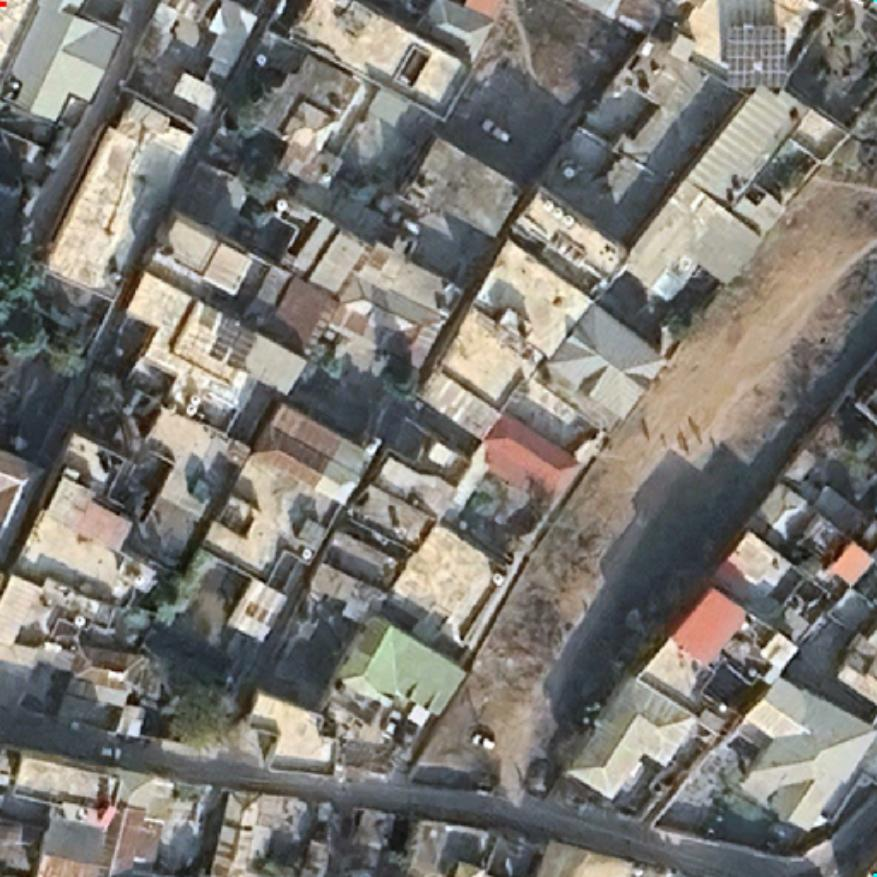Solarpanel: (724, 24, 788, 88), (207, 310, 267, 372)
